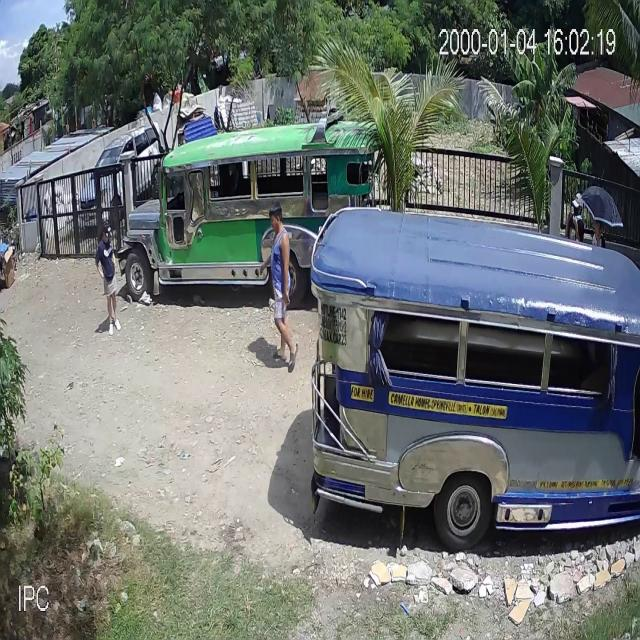standing: (96, 221, 123, 339), (566, 192, 587, 246), (590, 218, 608, 261)
walking: (266, 202, 302, 374)
